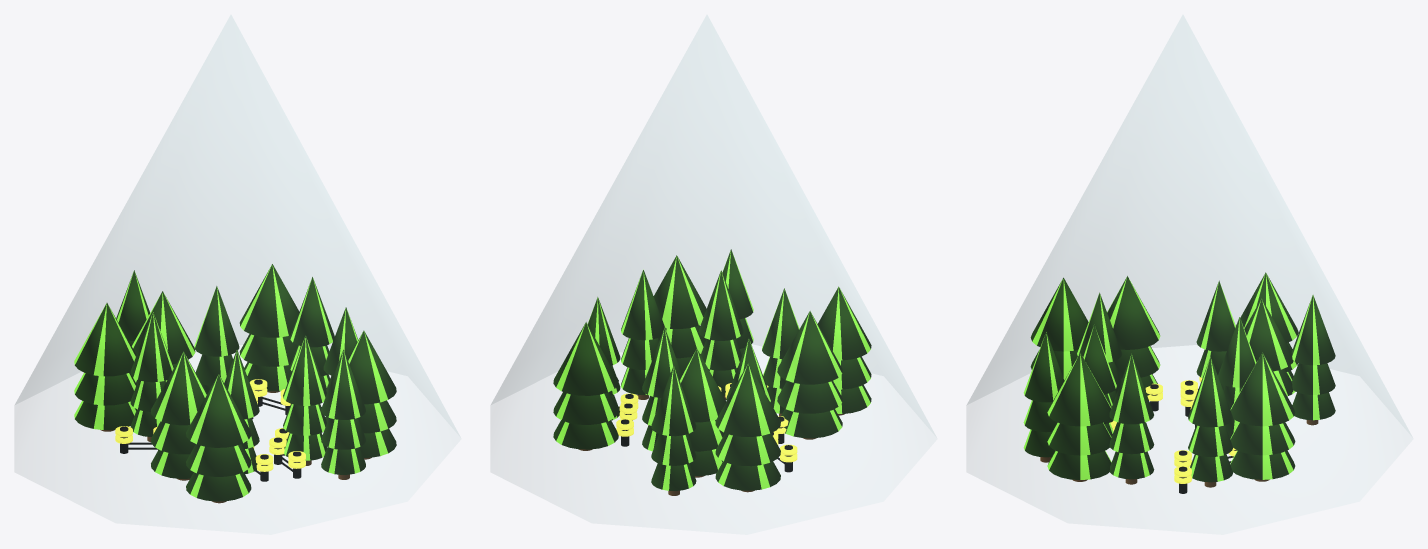
File: park2.glb
3 renders of one model, left to right at view 1: azimuth 30°, elevation 25°; view 2: azimuth 150°, elevation 25°; view 3: azimuth 270°, elevation 25°, orthographic.
Parts seen in each view (by area): view 1: Forest Small1; view 2: Forest Small1; view 3: Forest Small1.
Boxes of the visible parts, x1=… form: Forest Small1: x1=15, y1=15, x2=460, y2=533; Forest Small1: x1=491, y1=15, x2=936, y2=534; Forest Small1: x1=967, y1=15, x2=1412, y2=534.
Size of the model in its own units: 66.37 by 68.49 by 65.36.
